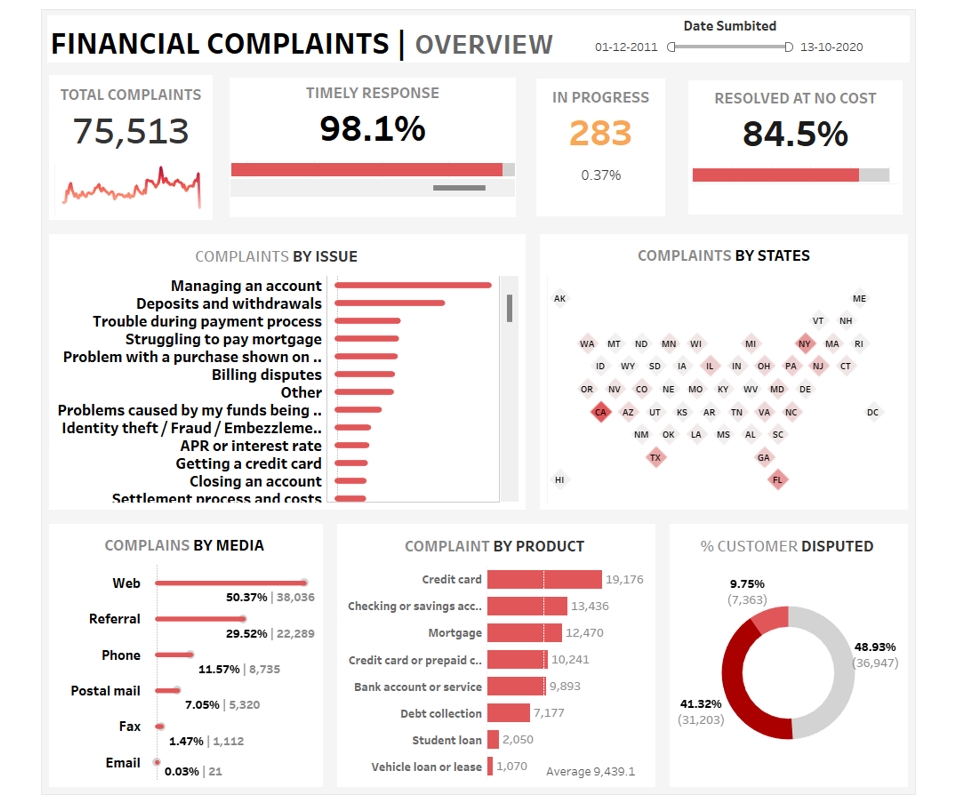

The page's visual inventory and layout, read from the dashboard file:
{"tool":"tableau","page":{"name":"Fc overview","canvas":[1000,900],"ordinal":0},"visuals":[{"type":"text","box":[9,9,982,64.8]},{"type":"filter","title":"Sheet 8","param":"[federated.0ox3ndp0gzz5mh155ex500k87oih].[none:Date Sumbited:qk]","box":[625,15.7,316,56.2]},{"type":"worksheet","title":"TOTAL COMPLAINTS","mark":"Automatic","rows":["Financial Consumer Complaints.csv_2A0DD6235A5B4AB38E34AC6DEE"],"cols":["Date Sumbited"],"box":[9,73.8,200,178.8]},{"type":"worksheet","title":"TIMELY RESPONSE","mark":"Bar","box":[209,73.8,344,178.8]},{"type":"worksheet","title":"IN PROGRESS","mark":"Automatic","box":[553,73.8,169,178.8]},{"type":"worksheet","title":"RESOLVED AT NO COST","mark":"Bar","box":[722,73.8,269,178.8]},{"type":"worksheet","title":"Sheet 8","mark":"Line","rows":["Issue"],"cols":["Financial Consumer Complaints.csv_2A0DD6235A5B4AB38E34AC6DEE"],"box":[9,252.6,552,326.4]},{"type":"worksheet","title":"Sheet 9","mark":"Automatic","rows":["Row"],"cols":["Column"],"box":[561,252.6,430,326.4]},{"type":"worksheet","title":"COMPLAINS BY MEDIA","mark":"Automatic","rows":["Submitted via"],"cols":["Financial Consumer Complaints.csv_2A0DD6235A5B4AB38E34AC6DEE"],"box":[9,579,324,312]},{"type":"worksheet","title":"comp by product","mark":"Automatic","rows":["Product"],"cols":["Financial Consumer Complaints.csv_2A0DD6235A5B4AB38E34AC6DEE"],"box":[333,579,374,312]},{"type":"worksheet","title":"% CCustomer disputed","mark":"Pie","rows":["Calculation_788411477687533579","Calculation_788411477687554061"],"box":[707,579,284,312]}]}

Visuals, with their boxes on the page's 1000x900 design canvas (x1, y1, x2, y2). These are canvas units, not pixel positions in the 956x801 screenshot, which may show the page scaled, cropped or inside an application window:
text: left=9, top=9, right=991, bottom=74
"Sheet 8" filter: left=625, top=16, right=941, bottom=72
"TOTAL COMPLAINTS" worksheet: left=9, top=74, right=209, bottom=253
"TIMELY RESPONSE" worksheet (Bar marks): left=209, top=74, right=553, bottom=253
"IN PROGRESS" worksheet: left=553, top=74, right=722, bottom=253
"RESOLVED AT NO COST" worksheet (Bar marks): left=722, top=74, right=991, bottom=253
"Sheet 8" worksheet (Line marks): left=9, top=253, right=561, bottom=579
"Sheet 9" worksheet: left=561, top=253, right=991, bottom=579
"COMPLAINS BY MEDIA" worksheet: left=9, top=579, right=333, bottom=891
"comp by product" worksheet: left=333, top=579, right=707, bottom=891
"% CCustomer disputed" worksheet (Pie marks): left=707, top=579, right=991, bottom=891
